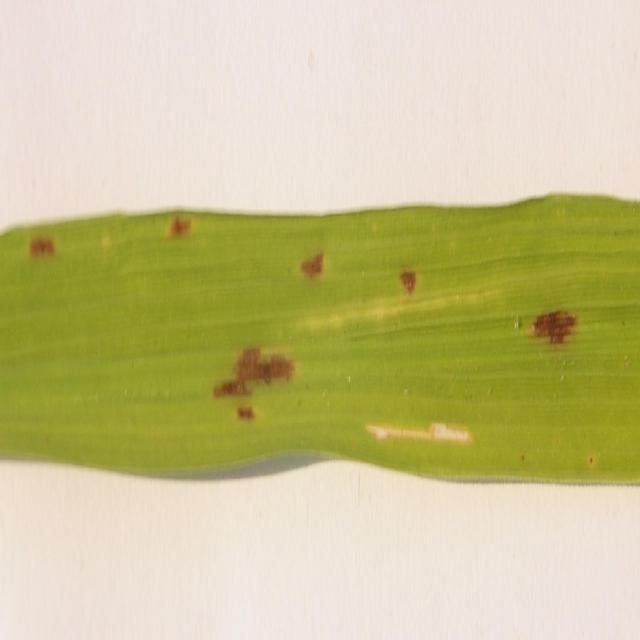Brown spot: (211, 338, 303, 440), (528, 304, 606, 371), (298, 244, 344, 308), (22, 231, 66, 284), (156, 210, 197, 253), (397, 266, 432, 314)
